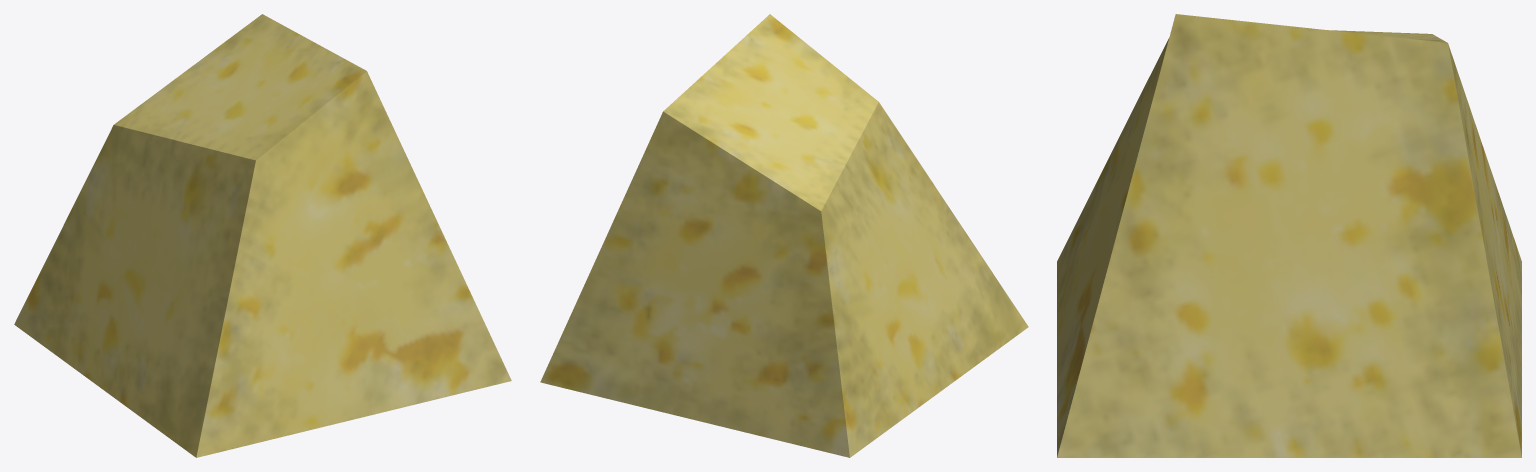
The model's file is cheese.glb.
3 renders of one model, left to right at view 1: azimuth 30°, elevation 25°; view 2: azimuth 150°, elevation 25°; view 3: azimuth 270°, elevation 25°, orthographic. The views are drawn at different scales.
Visible parts, largest first — view 1: Cube; view 2: Cube; view 3: Cube.
Boxes of the visible parts, x1,y1,x2,y2 form: Cube: (14,14,511,457); Cube: (540,14,1028,457); Cube: (1057,14,1521,457).
Size of the model in its own units: 0.0129 by 0.0117 by 0.0129.
1 material, 1 textured.
